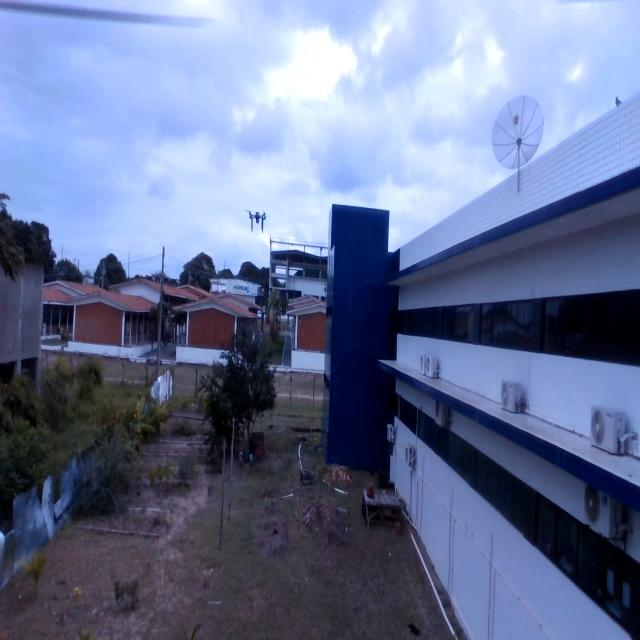-uav-: (245, 200, 269, 239)
